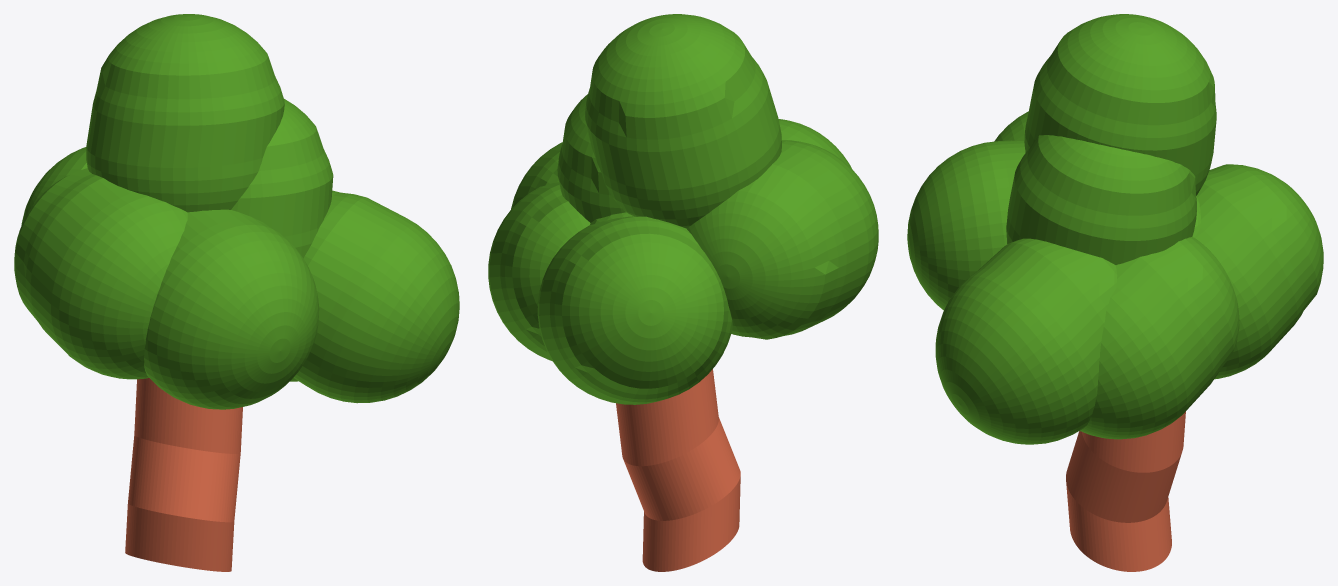
The model's file is Tree.dae.
3 renders of one model, left to right at view 1: azimuth 30°, elevation 25°; view 2: azimuth 150°, elevation 25°; view 3: azimuth 270°, elevation 25°, orthographic. The views are drawn at different scales.
Parts seen in each view (by area): view 1: Circle; view 2: Circle; view 3: Circle.
Boxes of the visible parts, bbox=[...] form: Circle: bbox=[14, 14, 459, 571]; Circle: bbox=[488, 14, 878, 571]; Circle: bbox=[907, 14, 1323, 571].
Bounding box in the file's own units: 8.06 × 7.96 × 11.3.
